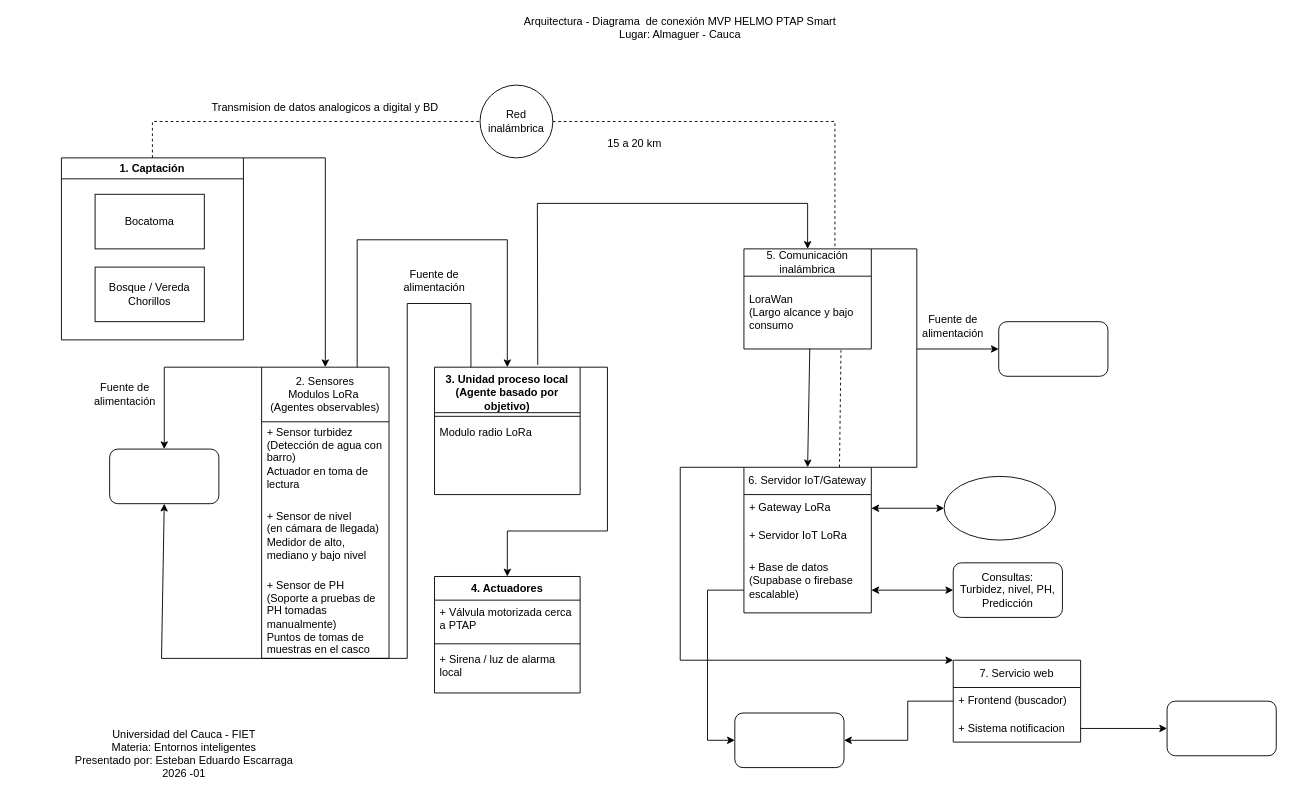
Some shapes in this 1292 by 796 pixel diagram are drawn without their labels. The shapes that lost their labels are listed below. From the top down, each one's centre as x and y in pixels, then its label:
At point (1053, 348): "PTAP / Oficina principal".
At point (164, 476): "Baterias y/o celda solar".
At point (999, 507): "Internet 3G, 4G".
At point (789, 740): "Programación: React y HTML para MVP".
At point (1221, 728): "SMS App".
